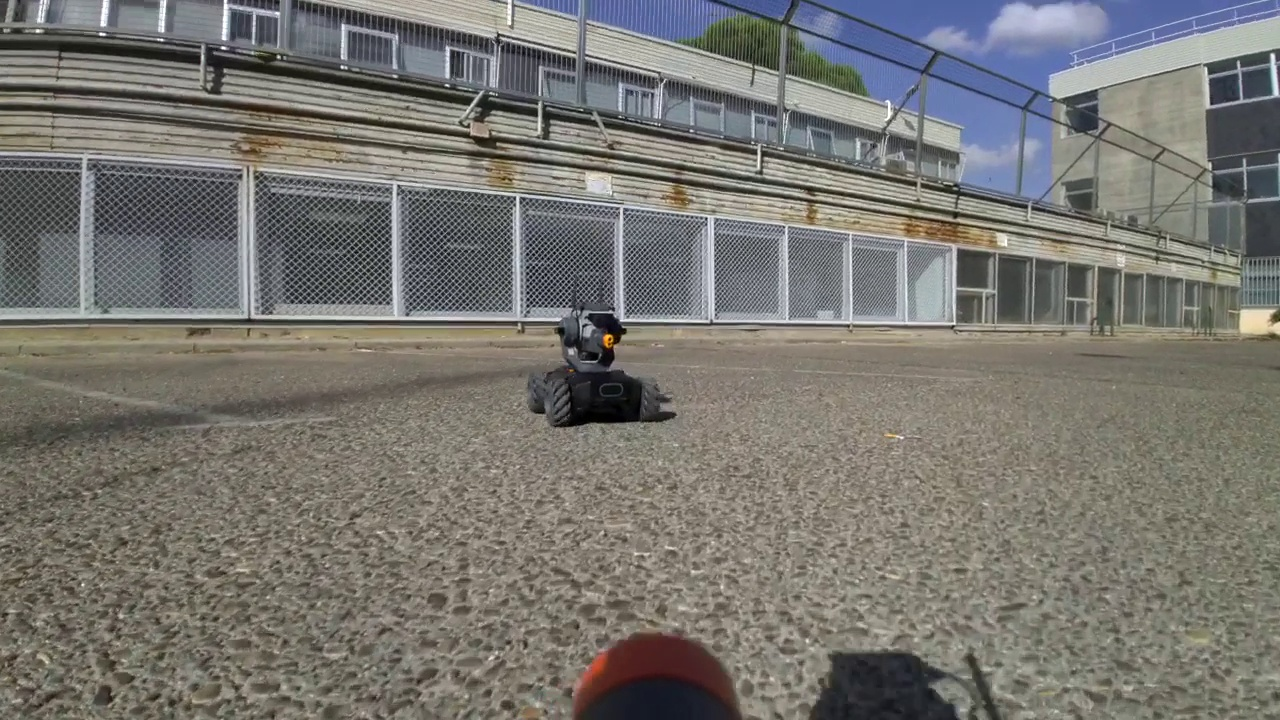robot: (524, 270, 664, 430)
